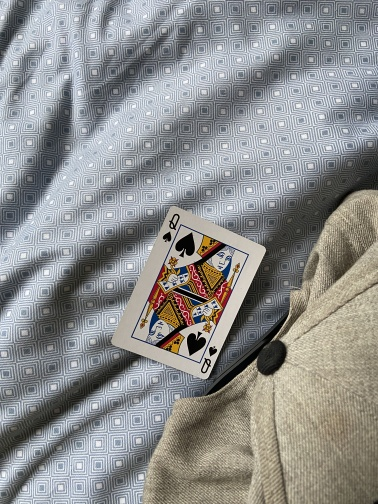queen: (109, 204, 268, 381)
